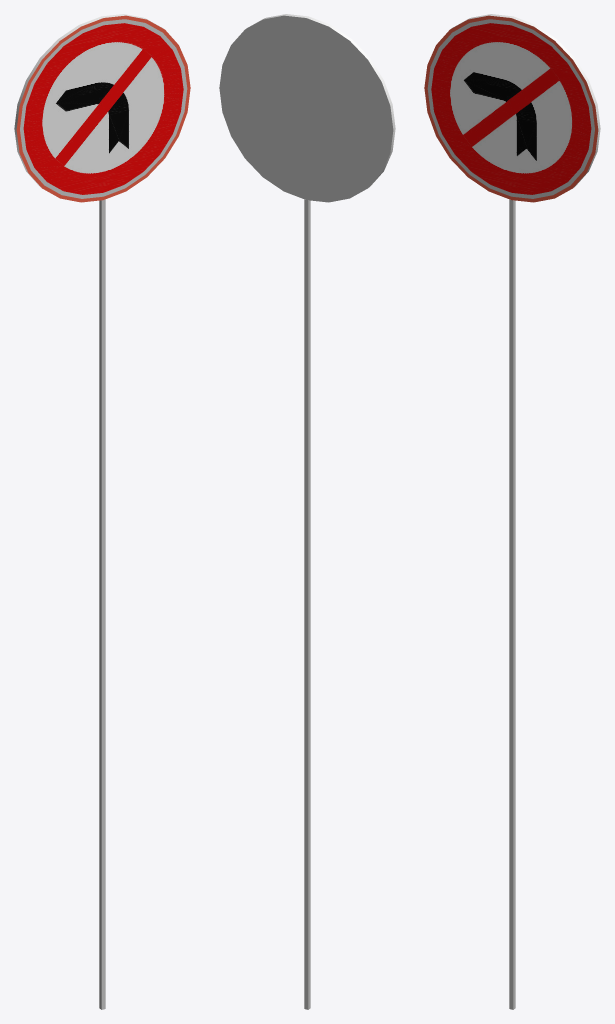
Rendered from trafik_levha_saga_donulmez.obj.
The picture shows the model from 3 angles, left to right: view 1: azimuth 30°, elevation 25°; view 2: azimuth 150°, elevation 25°; view 3: azimuth 330°, elevation 25°; orthographic projection.
Parts seen in each view (by area): view 1: Mesh2 Group3 Group1 Model, Mesh1 Group2 Group1 Model; view 2: Mesh2 Group3 Group1 Model, Mesh1 Group2 Group1 Model; view 3: Mesh2 Group3 Group1 Model, Mesh1 Group2 Group1 Model.
Part boxes in pixels (<box>): Mesh2 Group3 Group1 Model: <box>14,14,190,202</box>; Mesh1 Group2 Group1 Model: <box>99,199,105,1009</box>; Mesh2 Group3 Group1 Model: <box>219,14,395,202</box>; Mesh1 Group2 Group1 Model: <box>304,199,310,1009</box>; Mesh2 Group3 Group1 Model: <box>424,14,600,202</box>; Mesh1 Group2 Group1 Model: <box>509,199,515,1009</box>.
Bounding box in the file's own units: 450 × 2450 × 10.
Materials: 4 (1 with a texture image).
